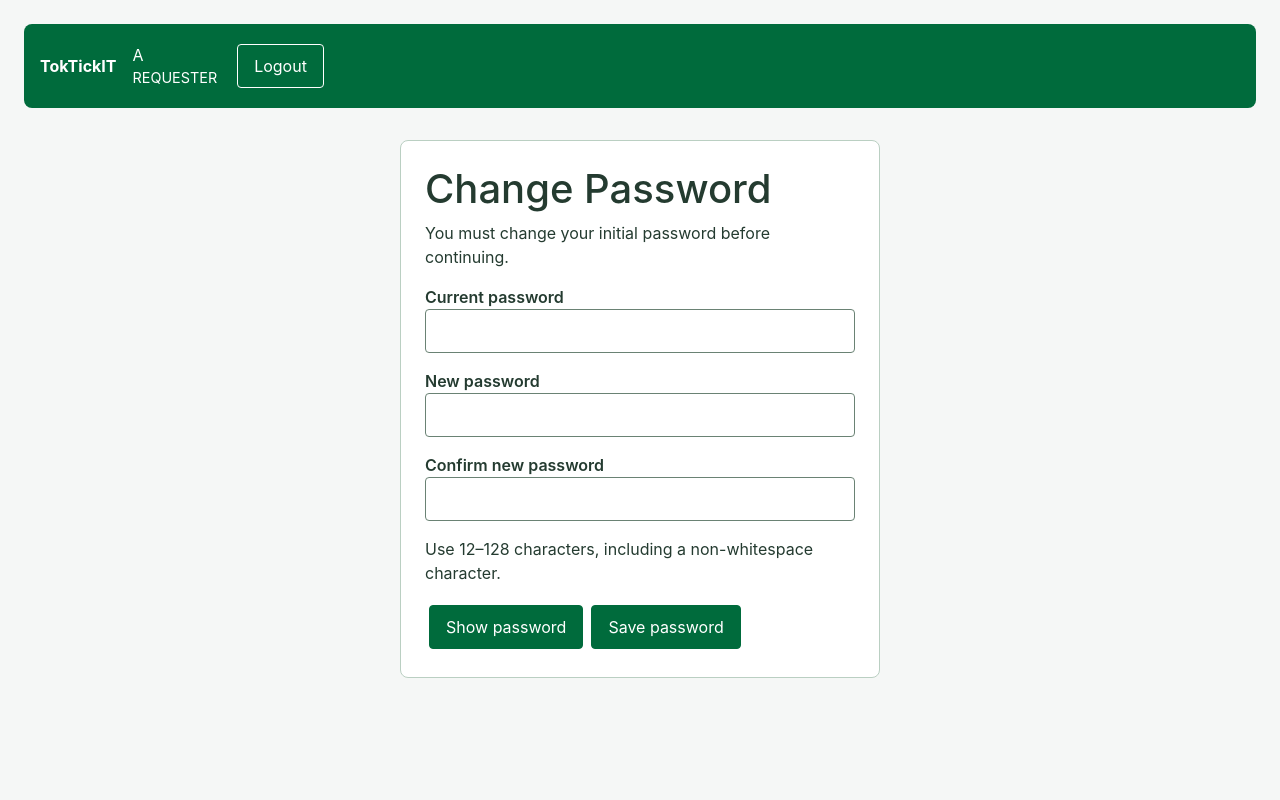
Test case: UI-02 saves a valid distinct password with CSRF, then clears form and restores navigation
The image size is (1280, 800).
Expected: the heading "Change Password" is shown, 425,164 -> 772,213
Type "old password long" into the password field labelled "Current password".
click(640, 331); type("old password long")  # box 425,309 -> 855,353
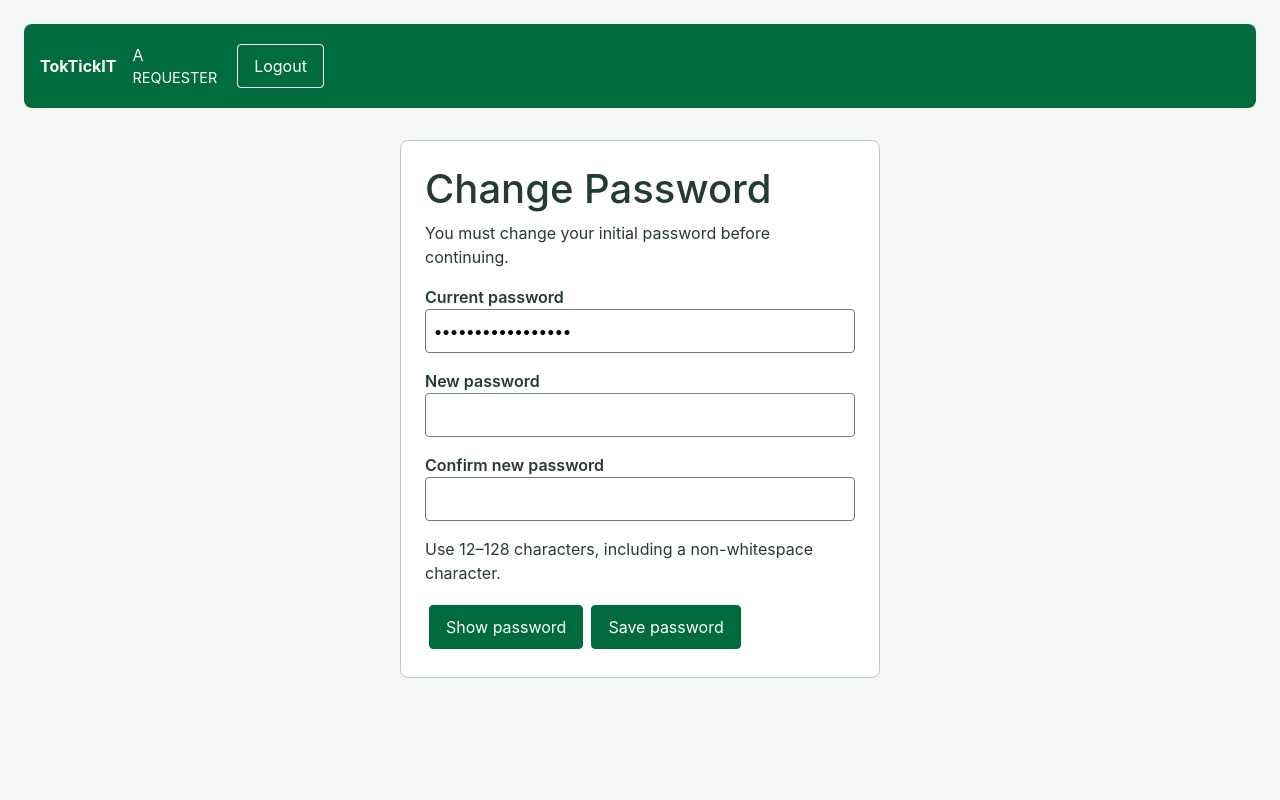
Type "new password long" into the password field labelled "New password".
click(640, 415); type("new password long")  # box 425,393 -> 855,437
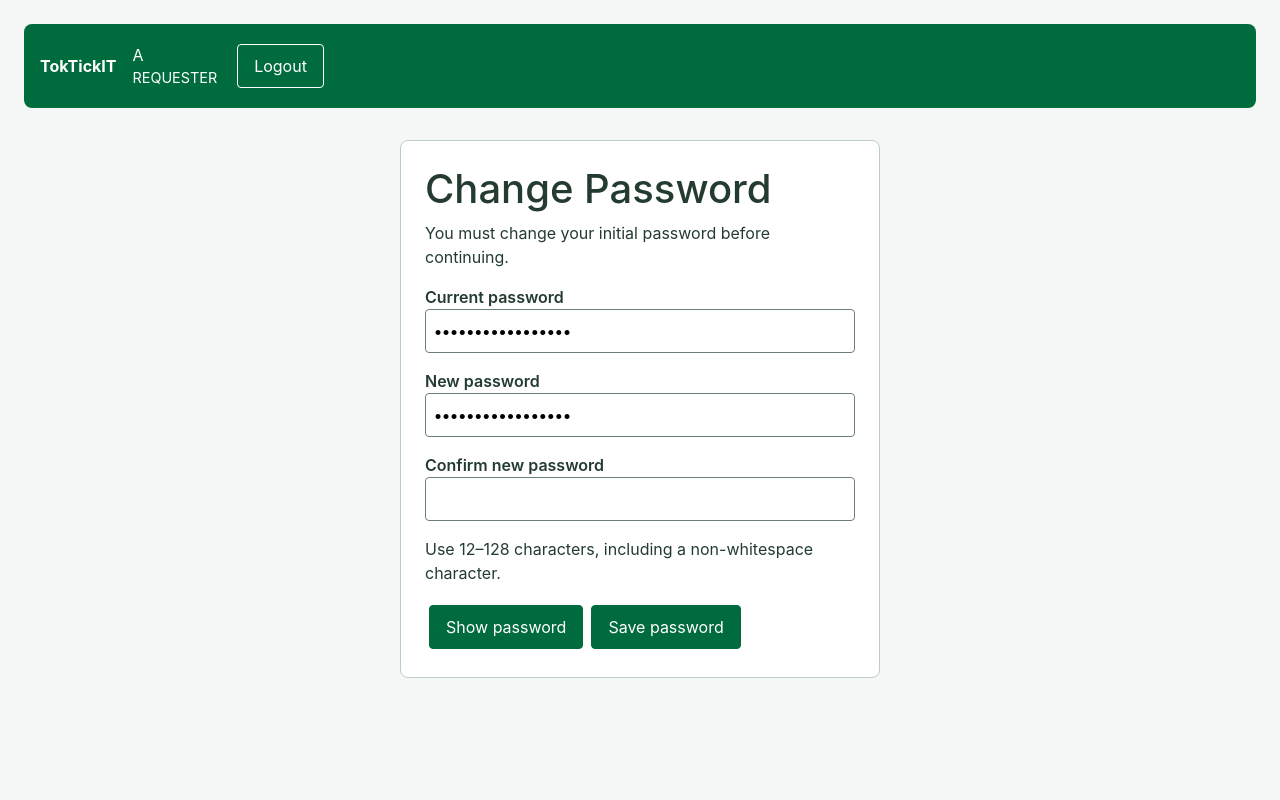
Type "new password long" into the password field labelled "Confirm new password".
click(640, 499); type("new password long")  # box 425,477 -> 855,521
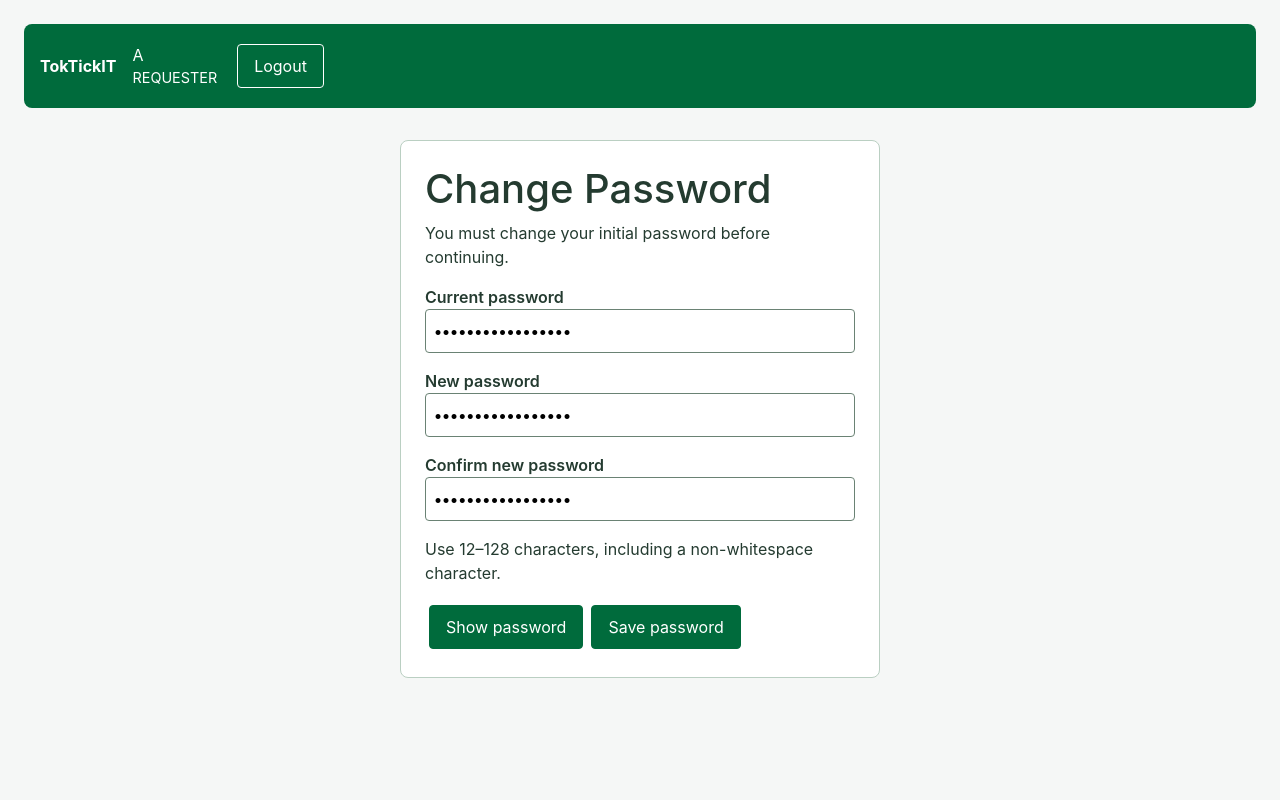
Click the button "Save password".
click(666, 627)  # box 591,605 -> 741,649
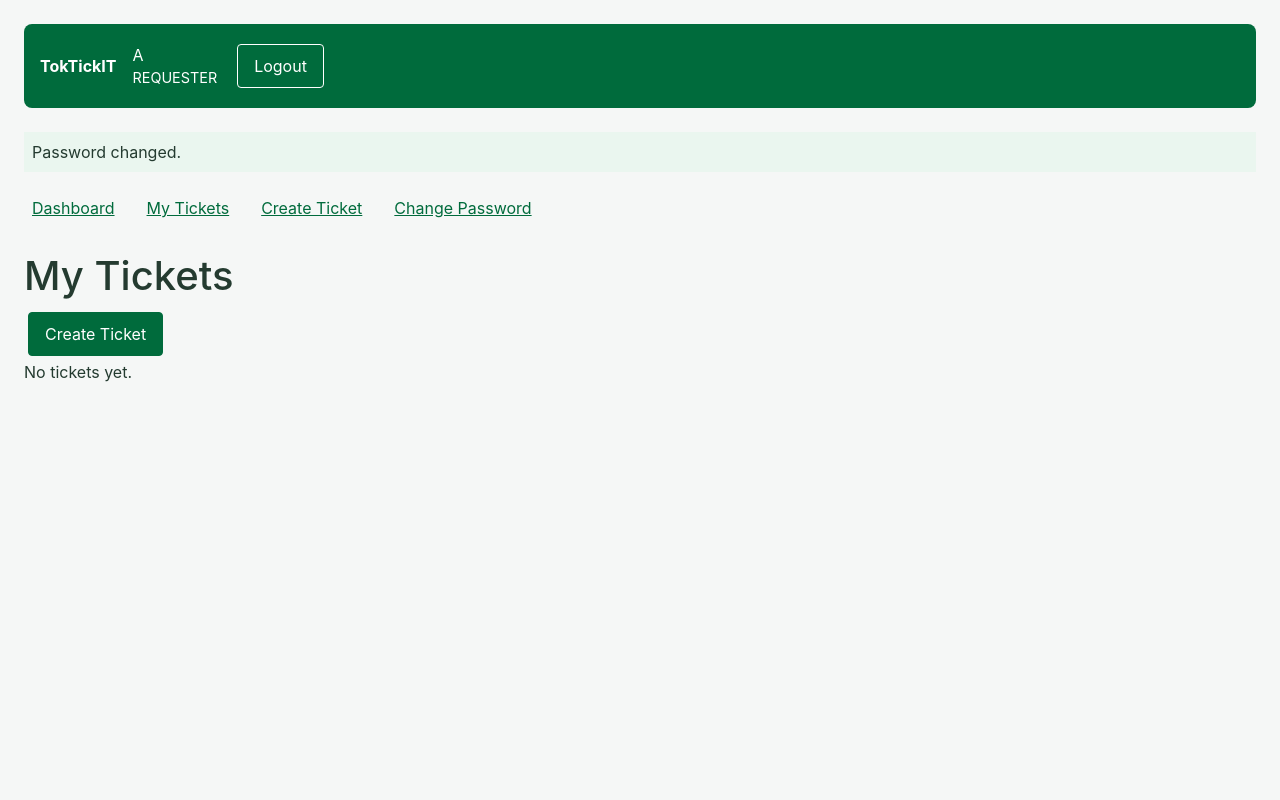
Result: the link "My Tickets" is shown at 146,198 -> 229,218
Click the link "Change Password".
click(463, 208)  # box 394,198 -> 532,218
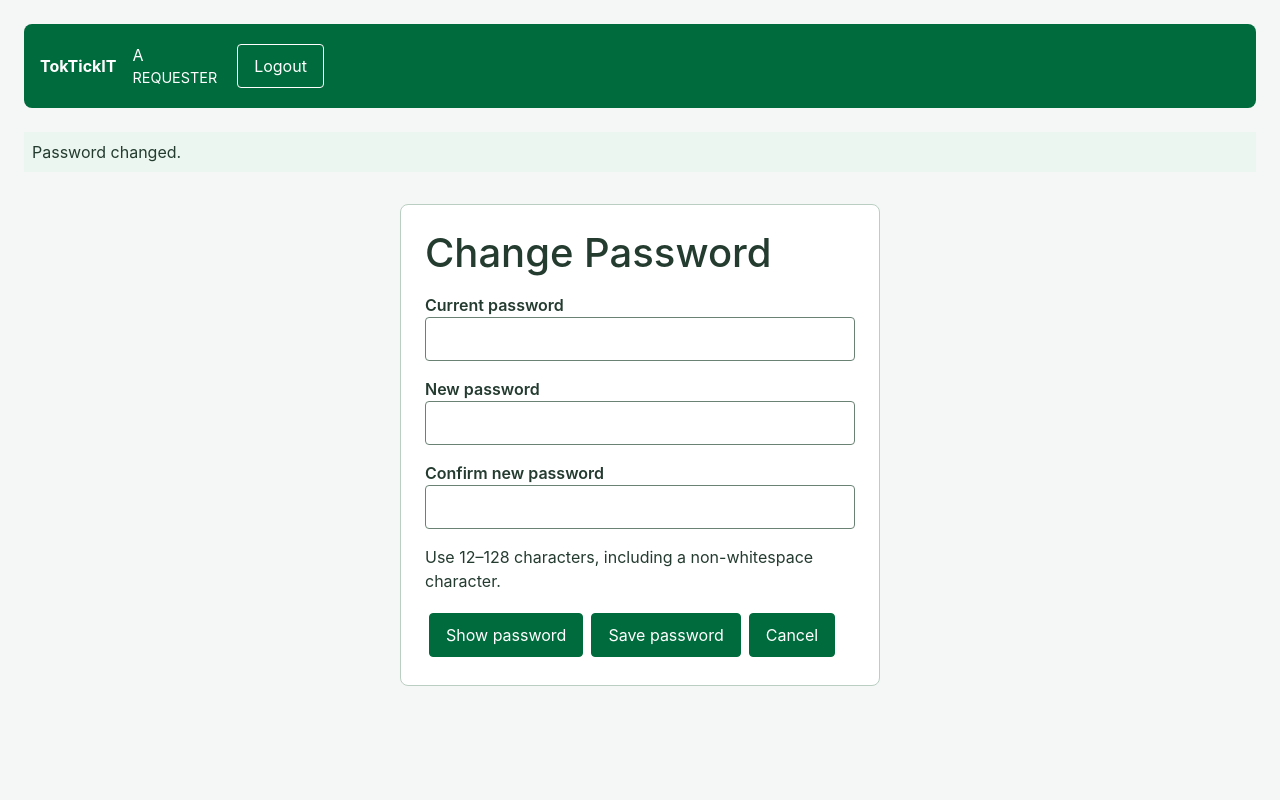
Expected: the password field labelled "New password" is empty, 425,401 -> 855,445
Result: the button "Cancel" is shown at 749,613 -> 835,657
